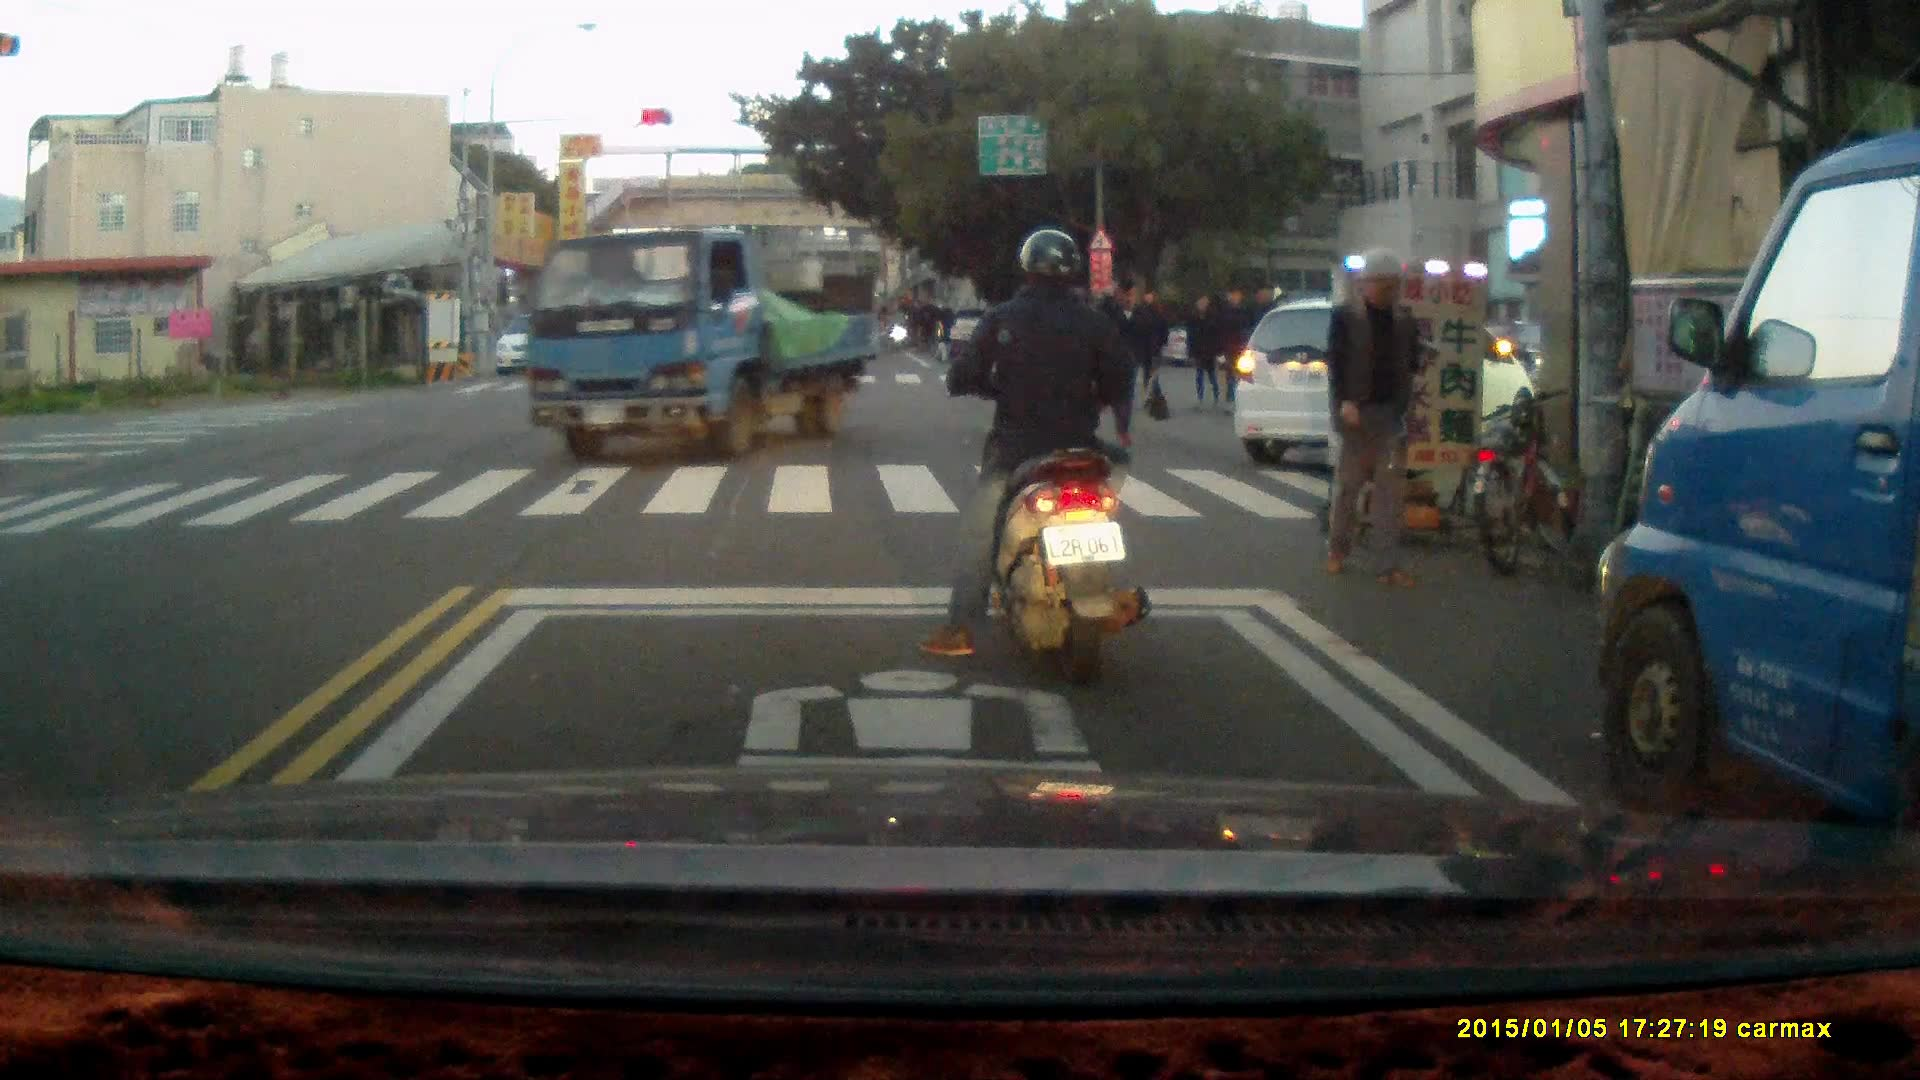pedestrian: (1316, 244, 1438, 590), (1093, 275, 1158, 446), (1211, 283, 1253, 412), (1181, 287, 1220, 416), (1128, 282, 1167, 401)
rider: (917, 227, 1149, 691), (877, 300, 908, 359)
vehicle: (1596, 120, 1920, 901), (517, 225, 892, 458), (1236, 303, 1533, 462)
